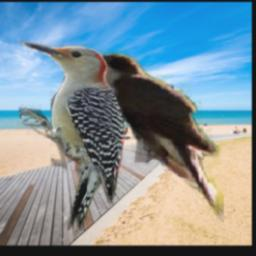Cuckoo: (79, 49, 223, 226)
Woodpecker: (17, 38, 124, 237)
